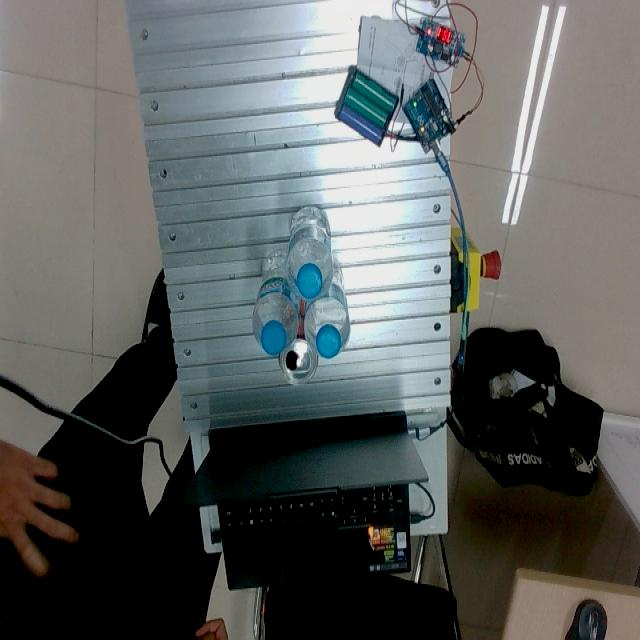coca: (278, 303, 319, 385)
lavie: (252, 251, 300, 356), (285, 207, 334, 304), (303, 260, 350, 357)
